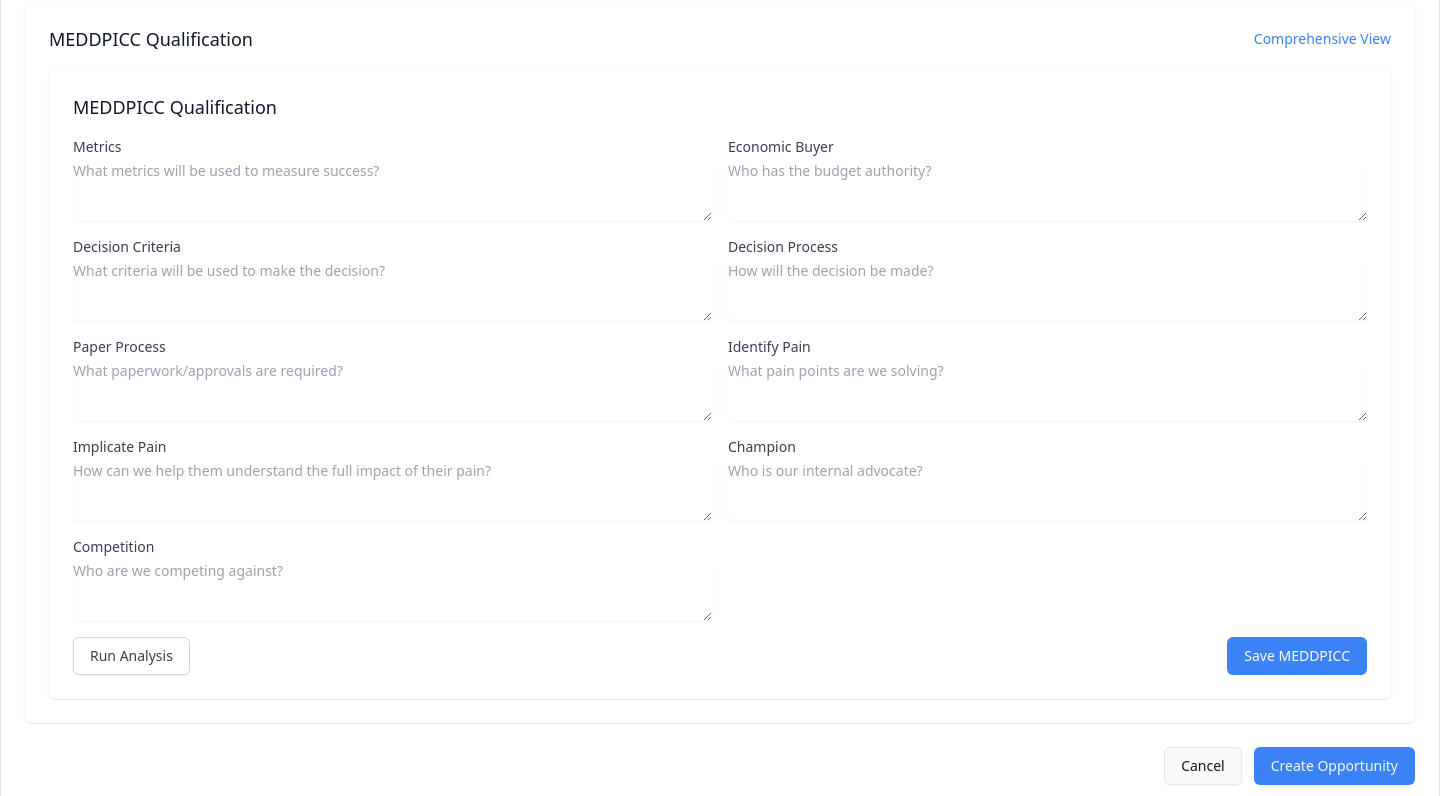
OpportunityForm Data Persistence › Data Validation › should validate required fields
(page scrolled)
Note: Try to submit without filling required fields
Click the button with test id "submit-opportunity-button" at (1334, 766), box [1254,747,1415,785]
(page scrolled)
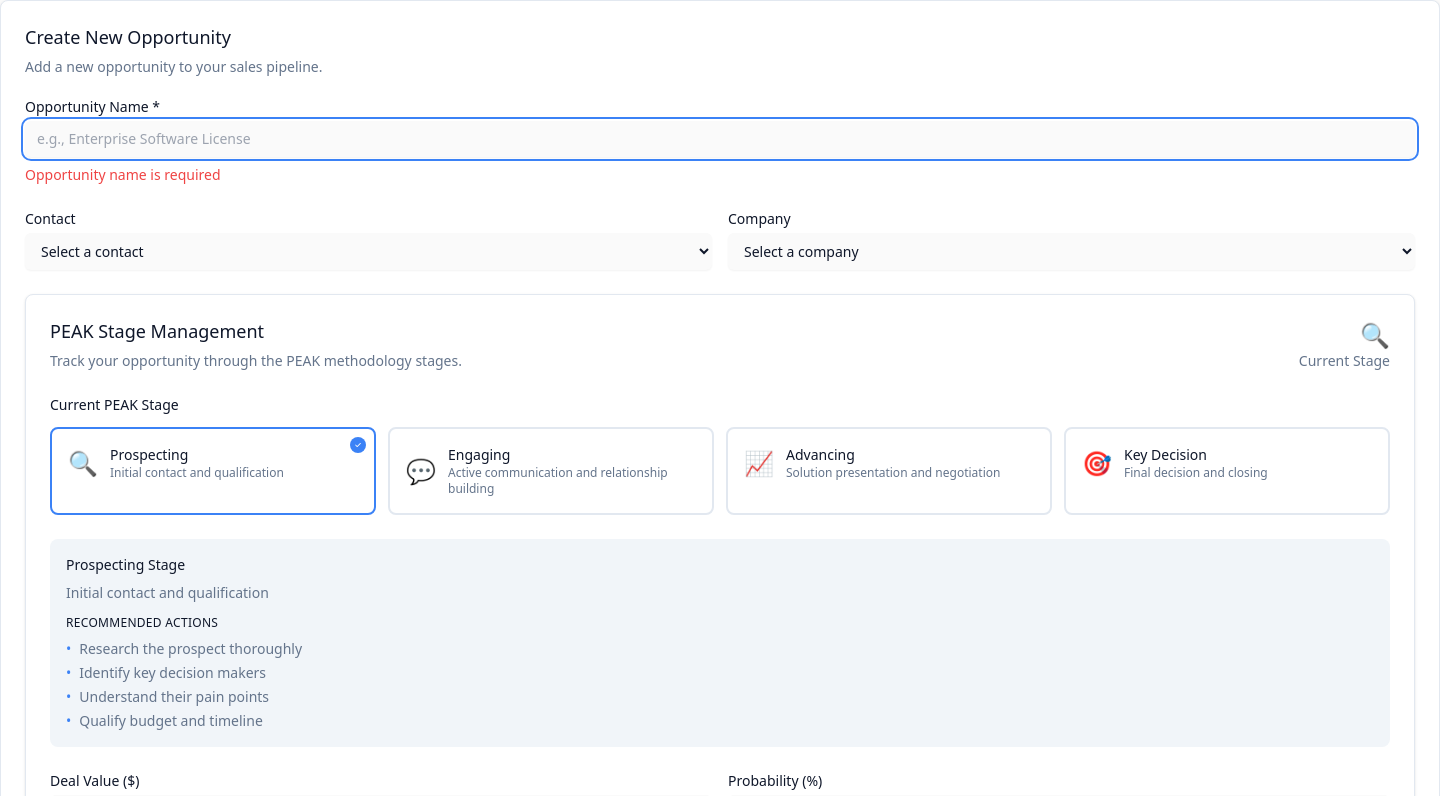
Expected: the text "Opportunity name is required" is shown, [25,165,221,184]
